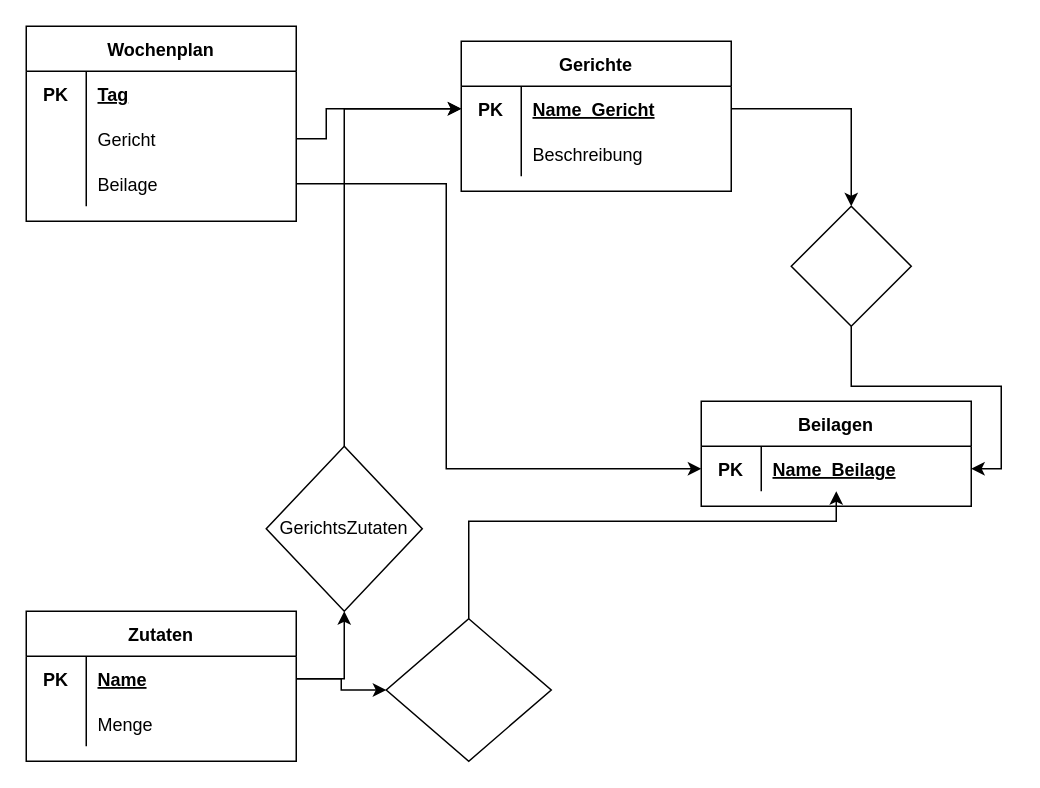
This 1040x788 diagram has some shape labels left out. Each missing label, with the centre of its shape:
"BeilagenZutaten" belongs at (x=468, y=689).
"GerichtsBeilage" belongs at (x=850, y=265).
